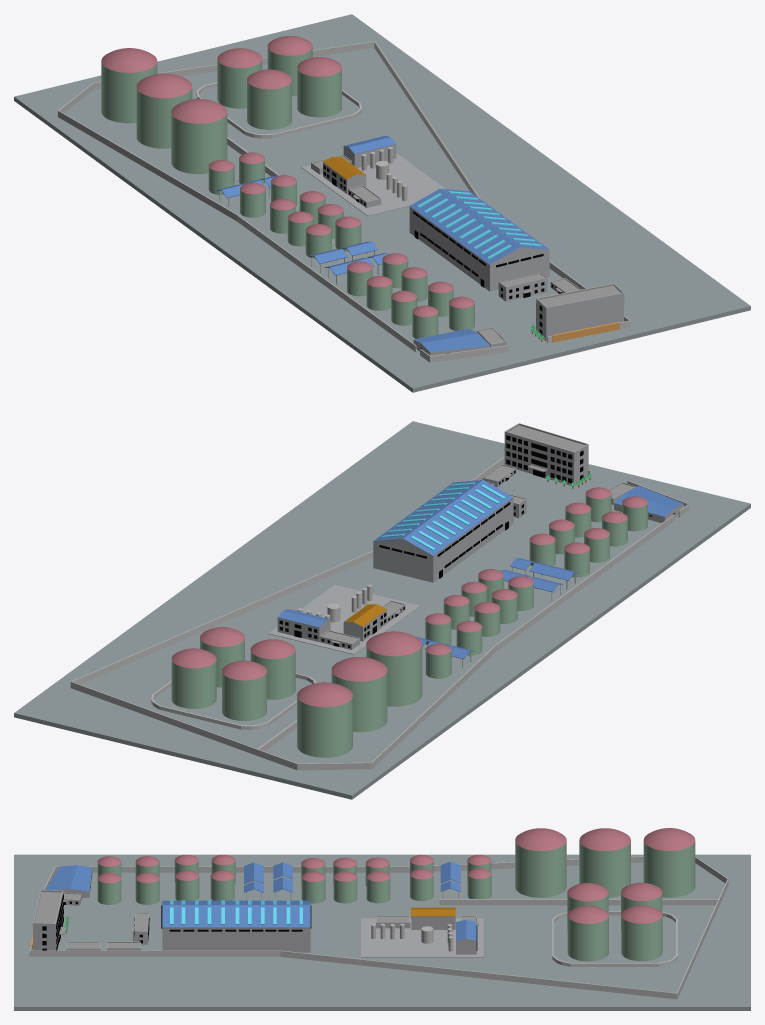
File: kuqu.glb
The picture shows the model from 3 angles, top to bottom: view 1: azimuth 30°, elevation 25°; view 2: azimuth 150°, elevation 25°; view 3: azimuth 270°, elevation 25°; orthographic projection. The views are drawn at different scales.
Bounding box in the file's own units: 0.4375 × 0.0784 × 0.8937.
